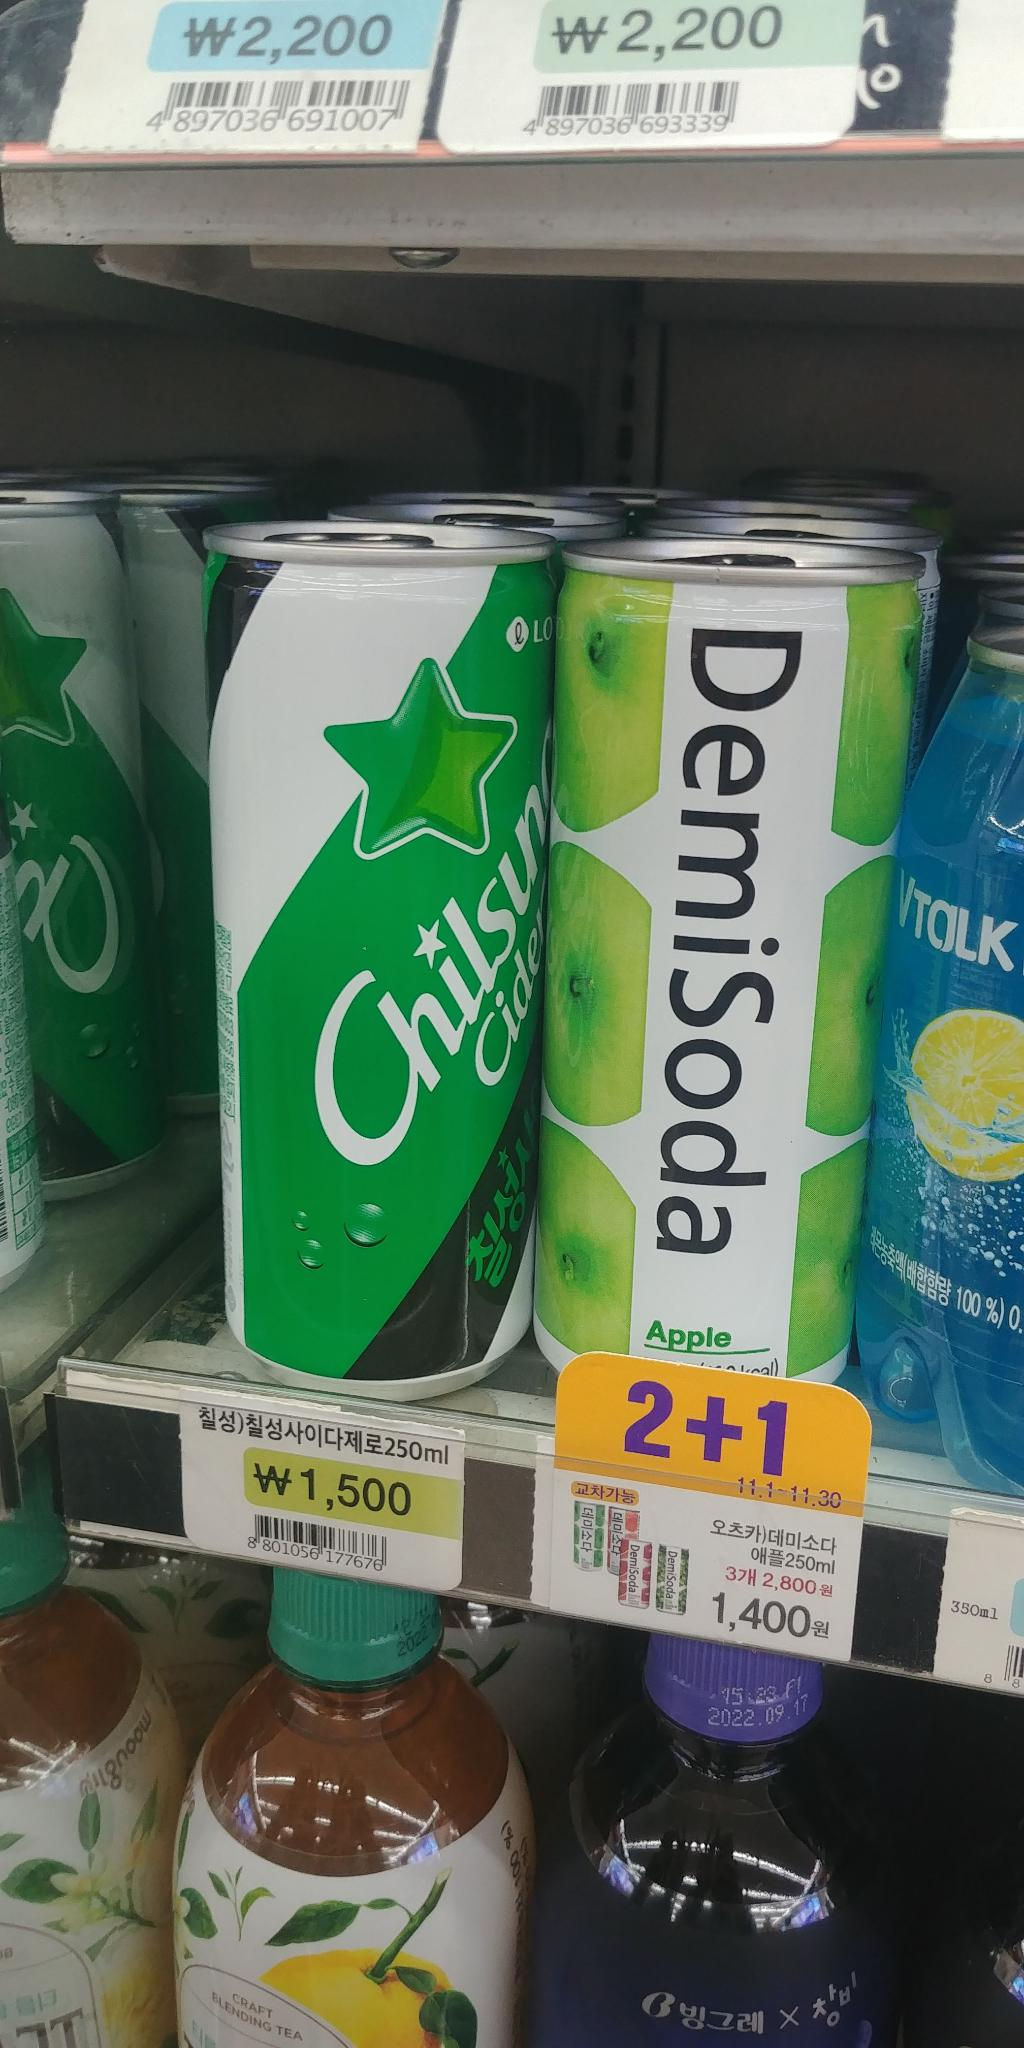chilsungcider_zero: (197, 500, 568, 1411)
